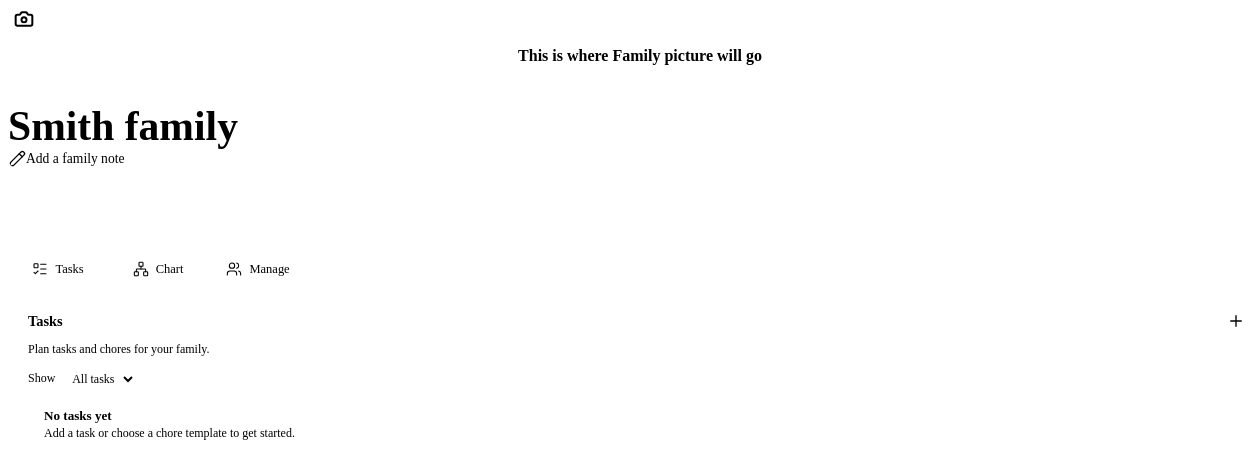
Test: FamilyScreen tabs › includes guardian-visible child profiles in the chart alongside account members
Click the tab "Chart" at (158, 269), box [108,248,208,290]
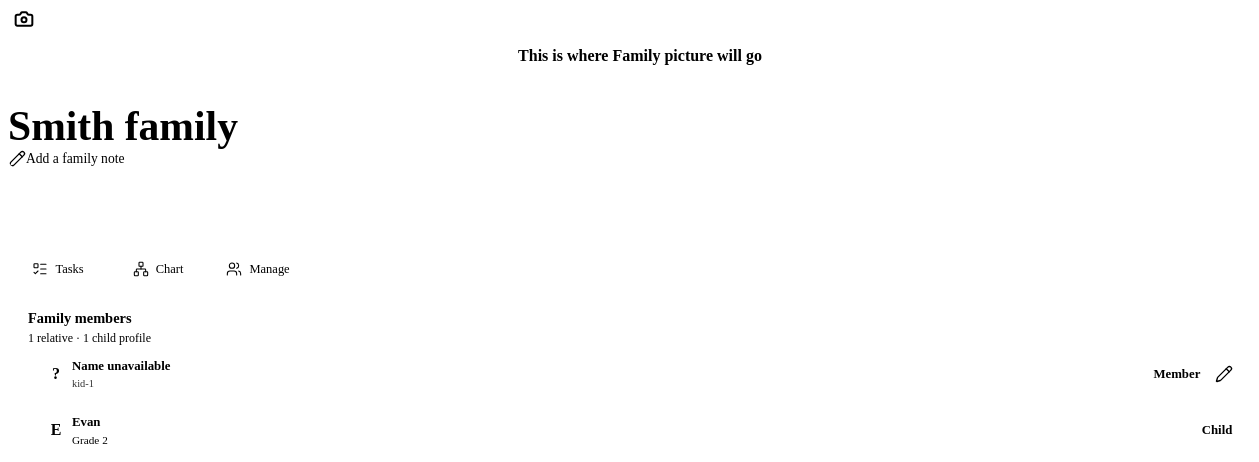
Result: the text "Evan" is shown at [72,414,100,428]
Result: the text "Grade 2" is shown at [72,434,108,446]
Result: the text "Child" is shown at [1202,422,1232,436]
